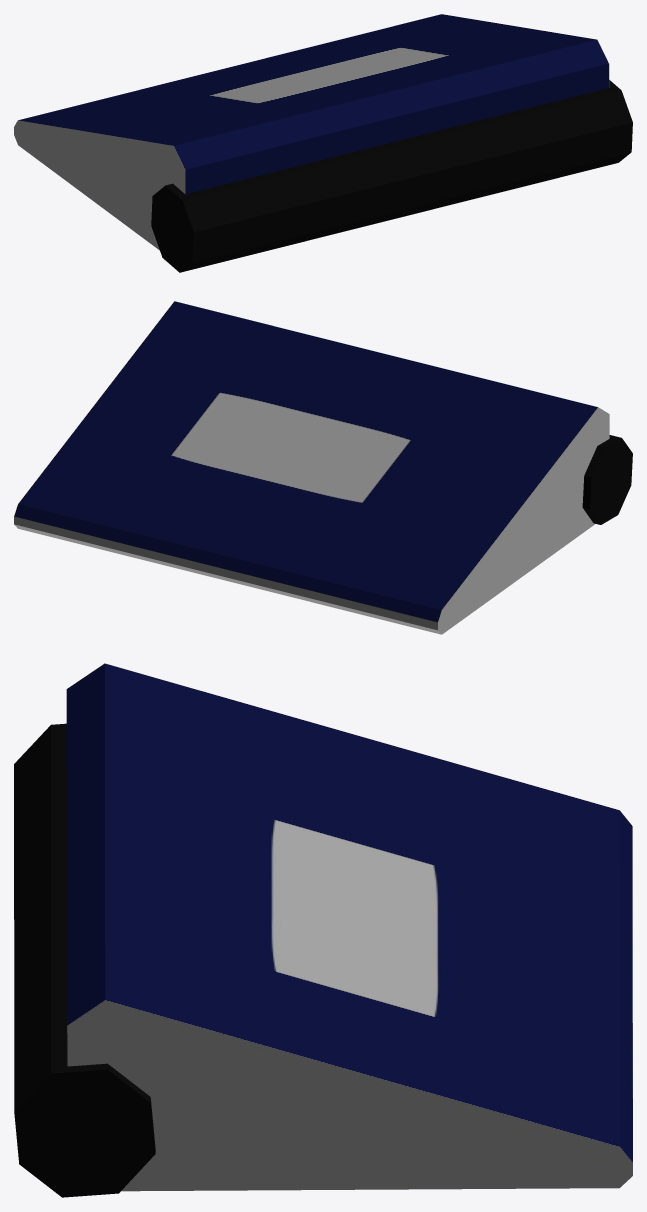
File: frl_apartment_tv_object.glb
3 renders of one model, top to bottom at view 1: azimuth 30°, elevation 25°; view 2: azimuth 150°, elevation 25°; view 3: azimuth 270°, elevation 25°, orthographic. The views are drawn at different scales.
Parts seen in each view (by area): view 1: frl_apartment_tv_object; view 2: frl_apartment_tv_object; view 3: frl_apartment_tv_object.
Part boxes in pixels (<box>): frl_apartment_tv_object: <box>14,14,632,272</box>; frl_apartment_tv_object: <box>14,301,632,634</box>; frl_apartment_tv_object: <box>14,663,632,1197</box>.
Bounding box in the file's own units: 0.2555 × 0.0658 × 0.1889.
1 material, 1 textured.
